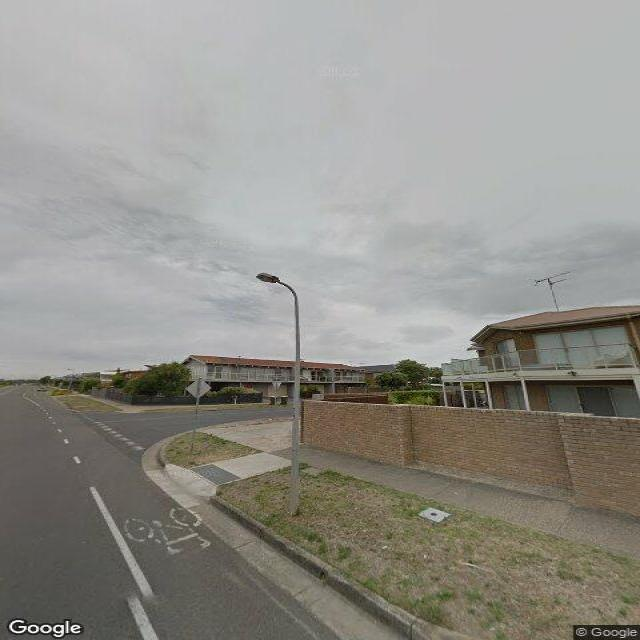mid mount suitable pole: (253, 272, 304, 516)
steel-pole: (285, 292, 301, 516)
streetlight: (255, 272, 301, 300)
